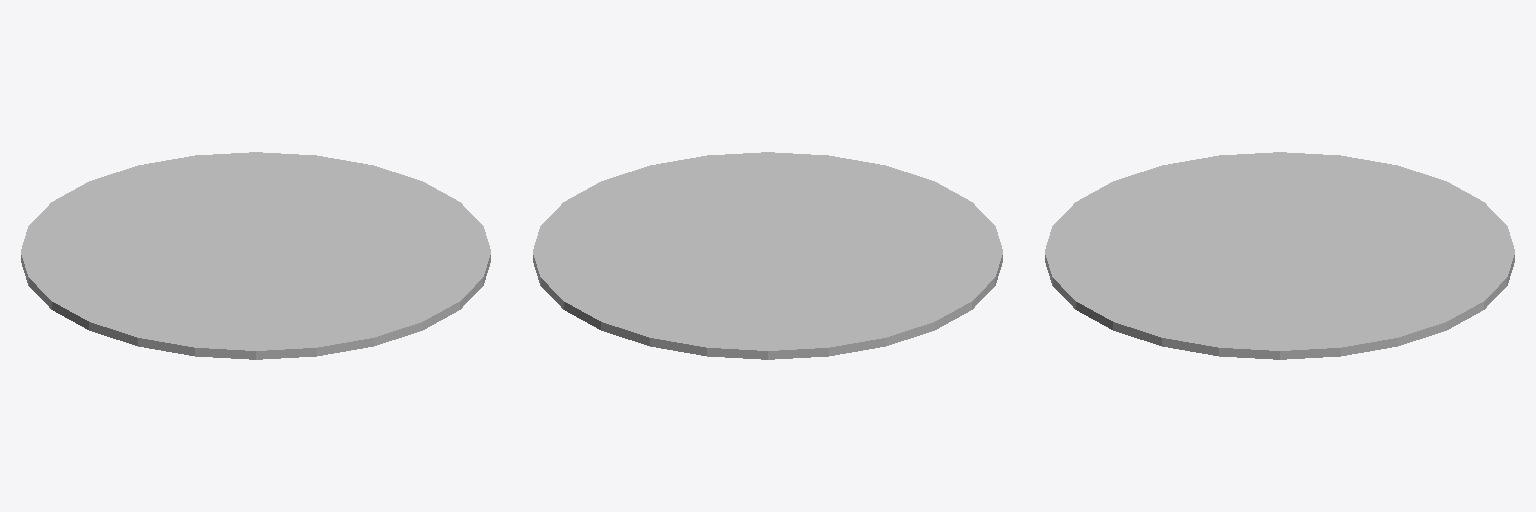
The model's file is MagnifyingGlassHitBox0.obj.
3 renders of one model, left to right at view 1: azimuth 30°, elevation 25°; view 2: azimuth 150°, elevation 25°; view 3: azimuth 270°, elevation 25°, orthographic.
Visible parts, largest first — view 1: MGarea; view 2: MGarea; view 3: MGarea.
Boxes of the visible parts, box(x1,y1,x2,y2) form: MGarea: box(21, 152, 490, 359); MGarea: box(533, 152, 1002, 359); MGarea: box(1045, 152, 1514, 359).
Size of the model in its own units: 1 by 0.0205 by 1.